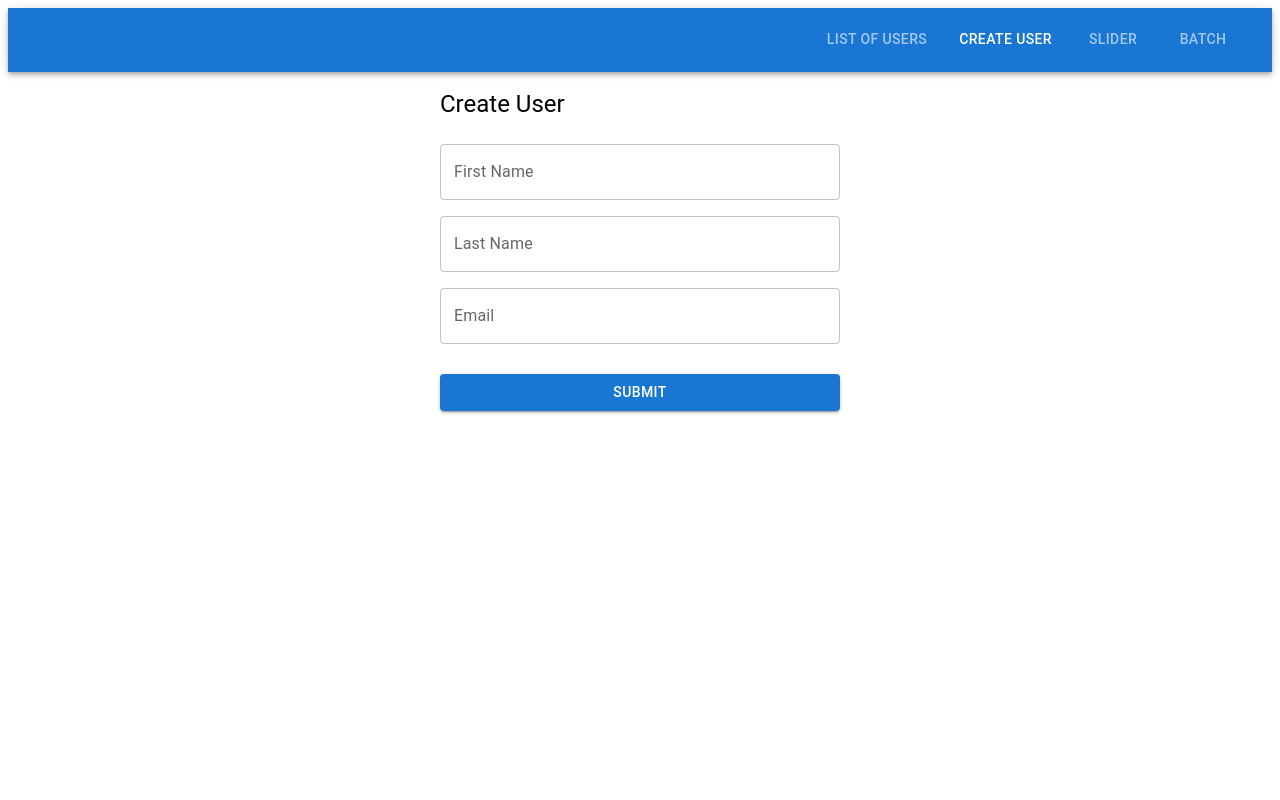
Create User Form › should display error message if API request fails
The image size is (1280, 800).
In the field named "firstName": [640, 172] box 440,144 -> 840,200, type "Meet"
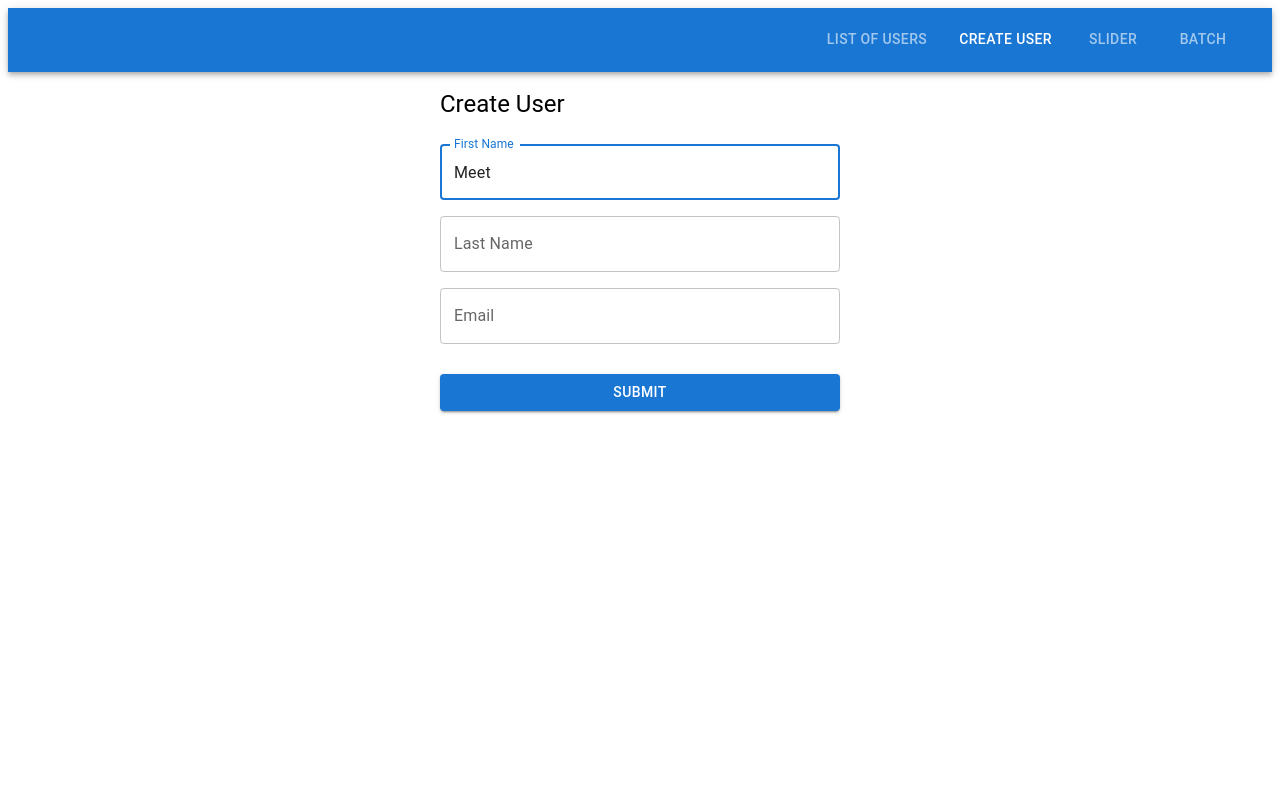
In the field named "lastName": [640, 244] box 440,216 -> 840,272, type "Shah"
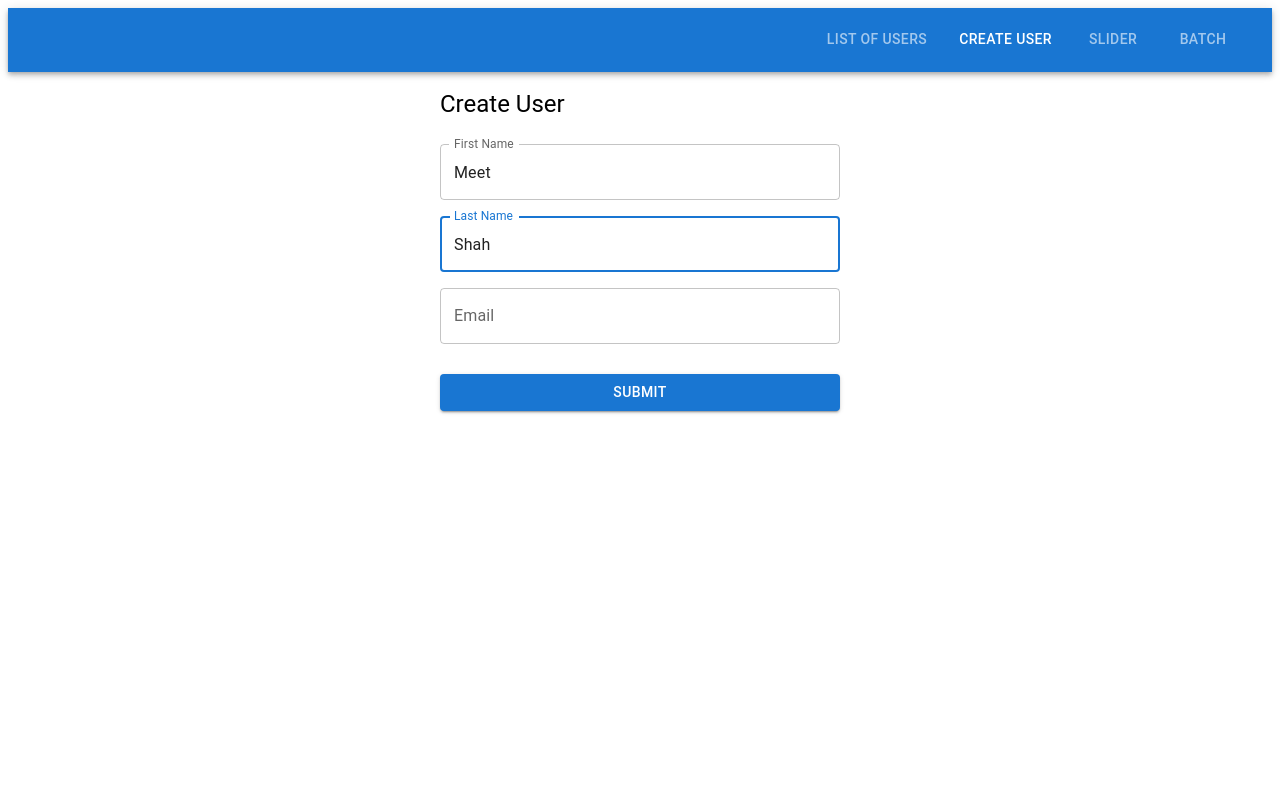
In the field named "emailId": [640, 316] box 440,288 -> 840,344, type "meetshah@gmail.com"
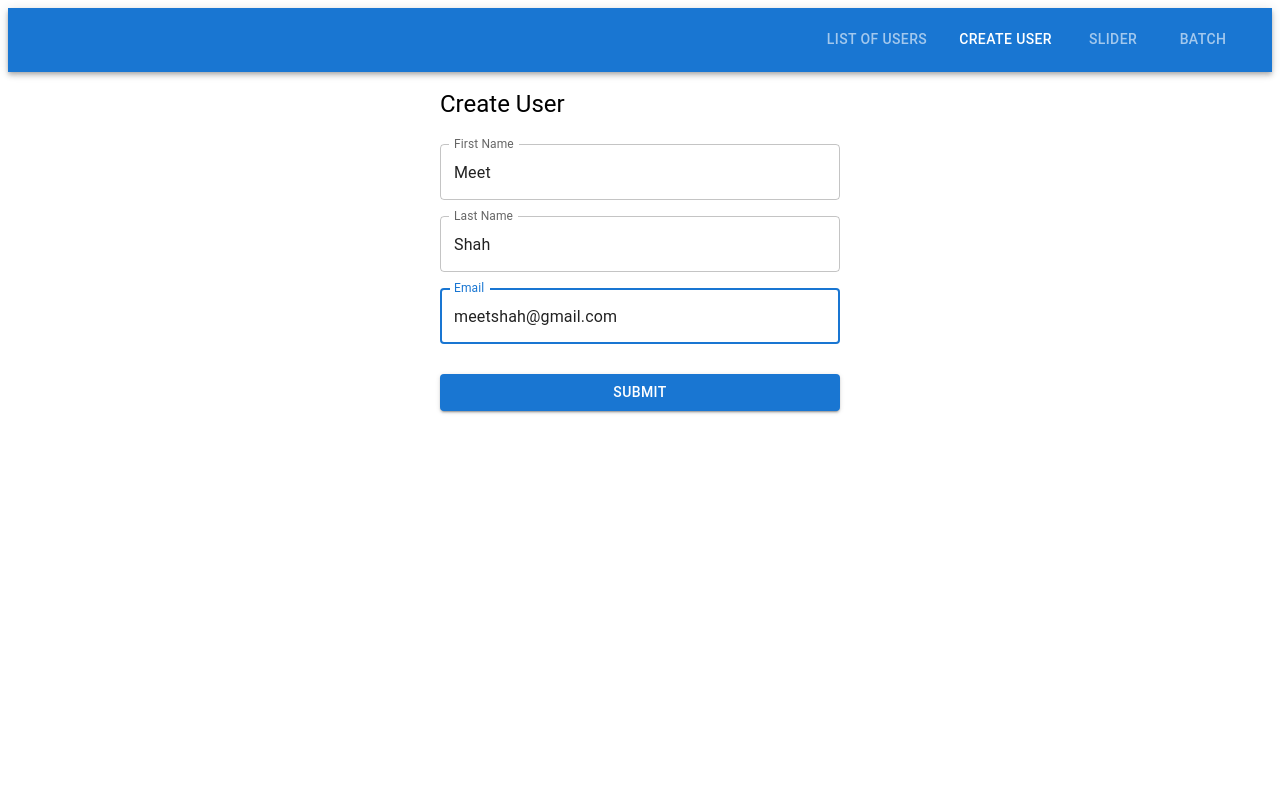
Click the submit button: [640, 393] box 440,374 -> 840,411
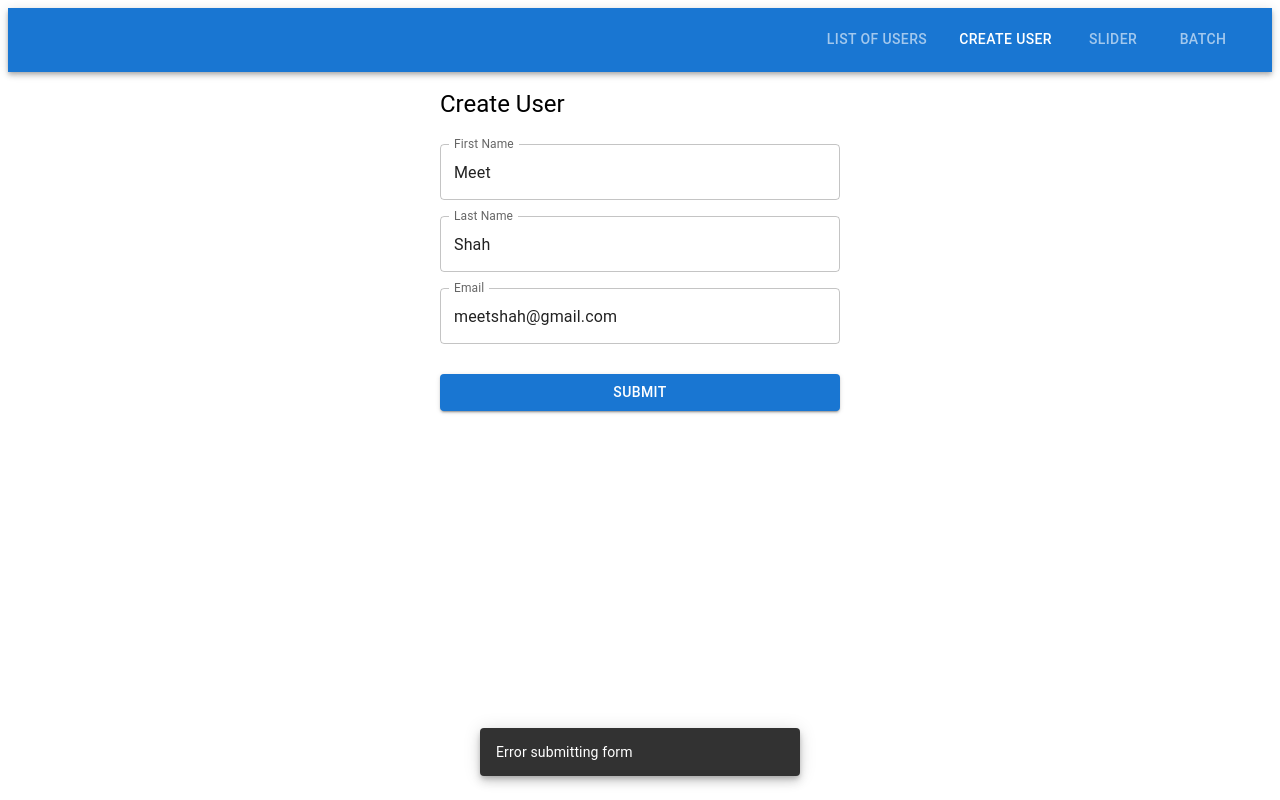
Result: the text "Error submitting form" is shown at 496,744 -> 633,760
